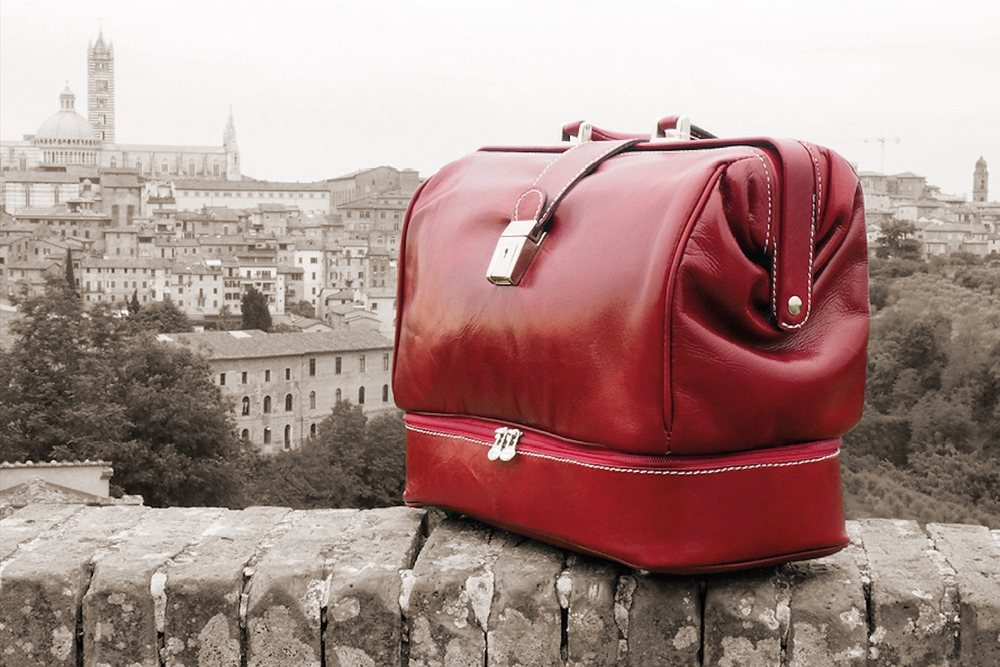bag: (378, 96, 896, 589)
